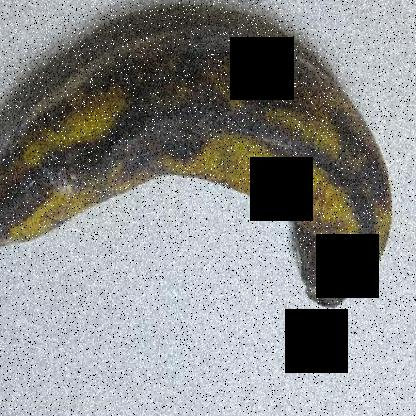overripe: (1, 30, 399, 325)
